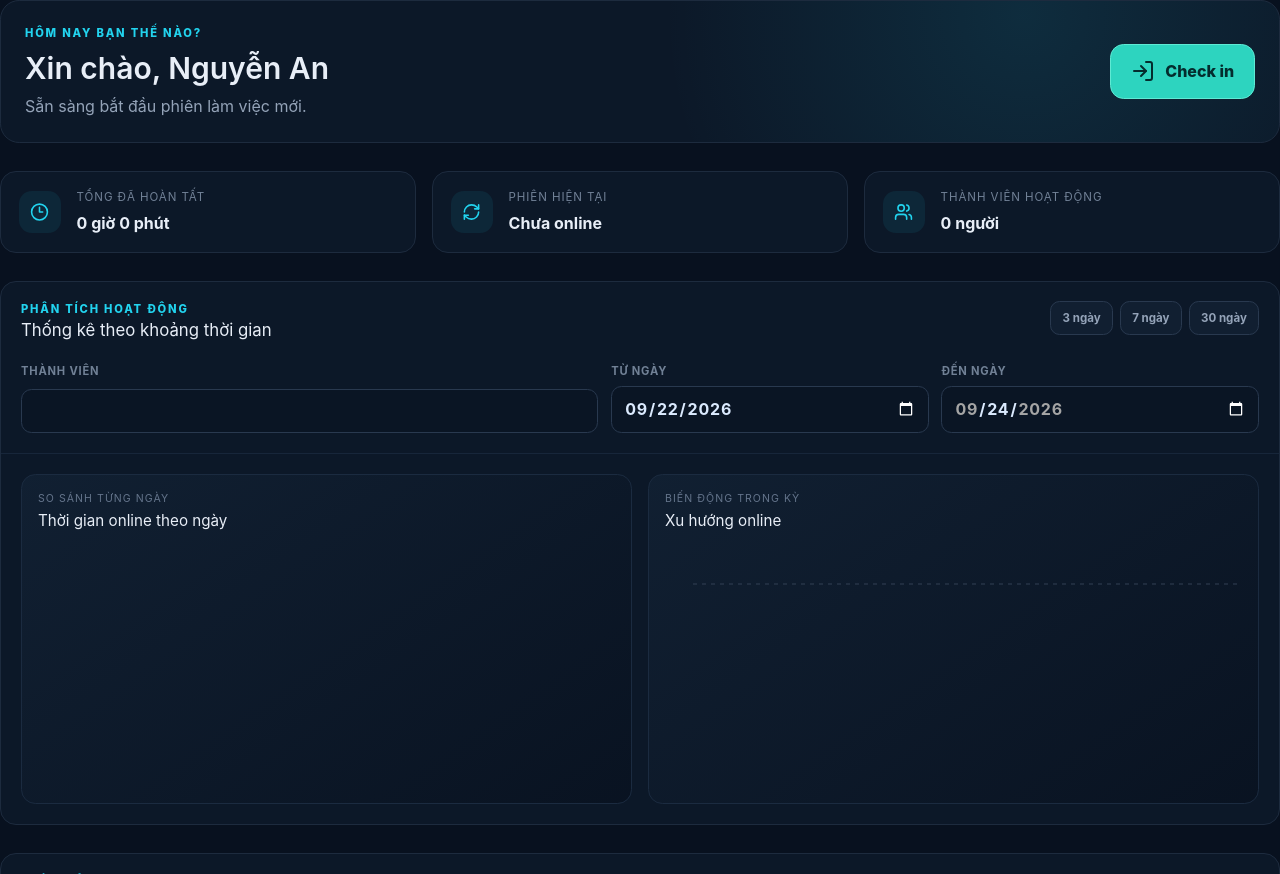
Test: Dashboard attendance charts › ignores a stale history response after the date range changes
Click the button "7 ngày" at [1151, 318], box 1120,301 -> 1182,335
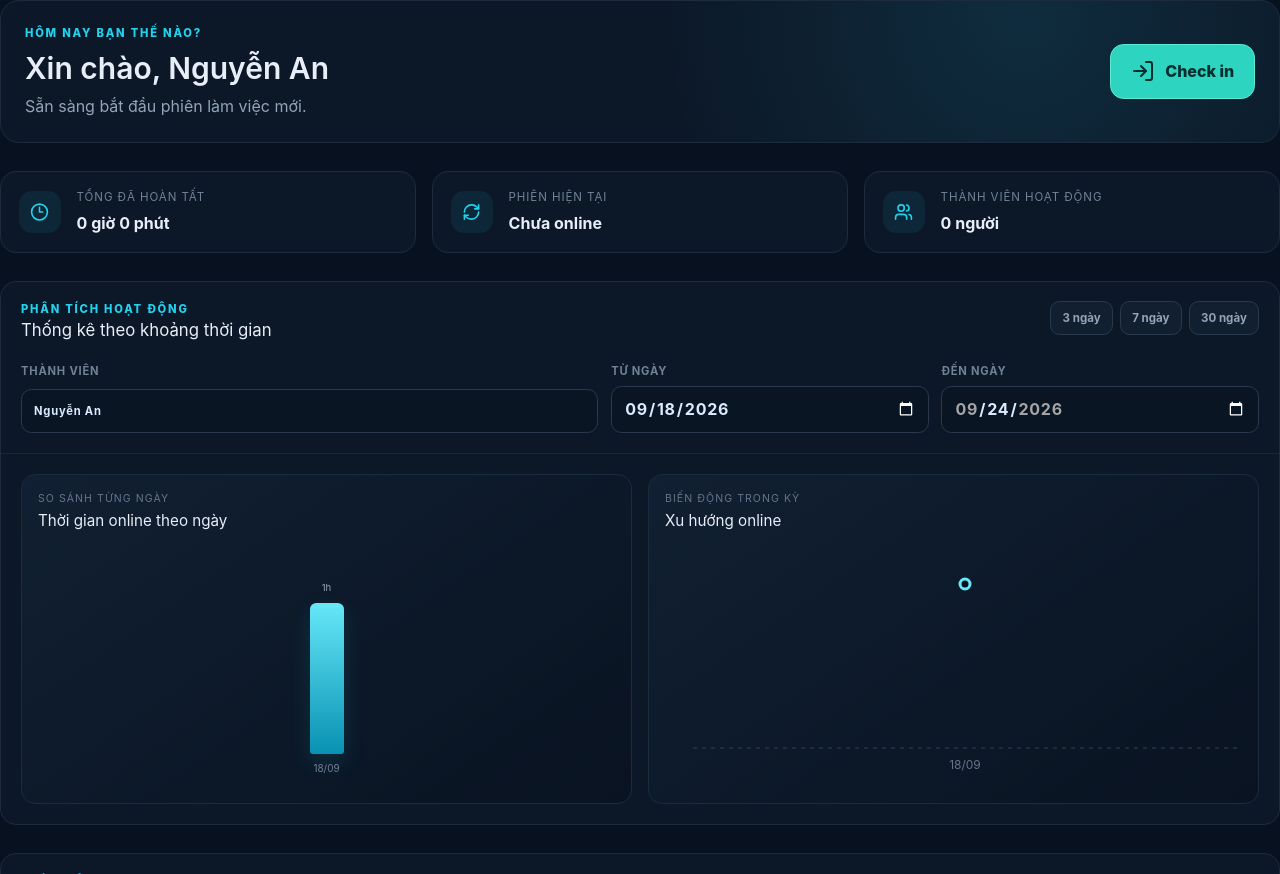
Expected: the number of buttons named "18/09/2026: 1 giờ 0 phút" is 2
